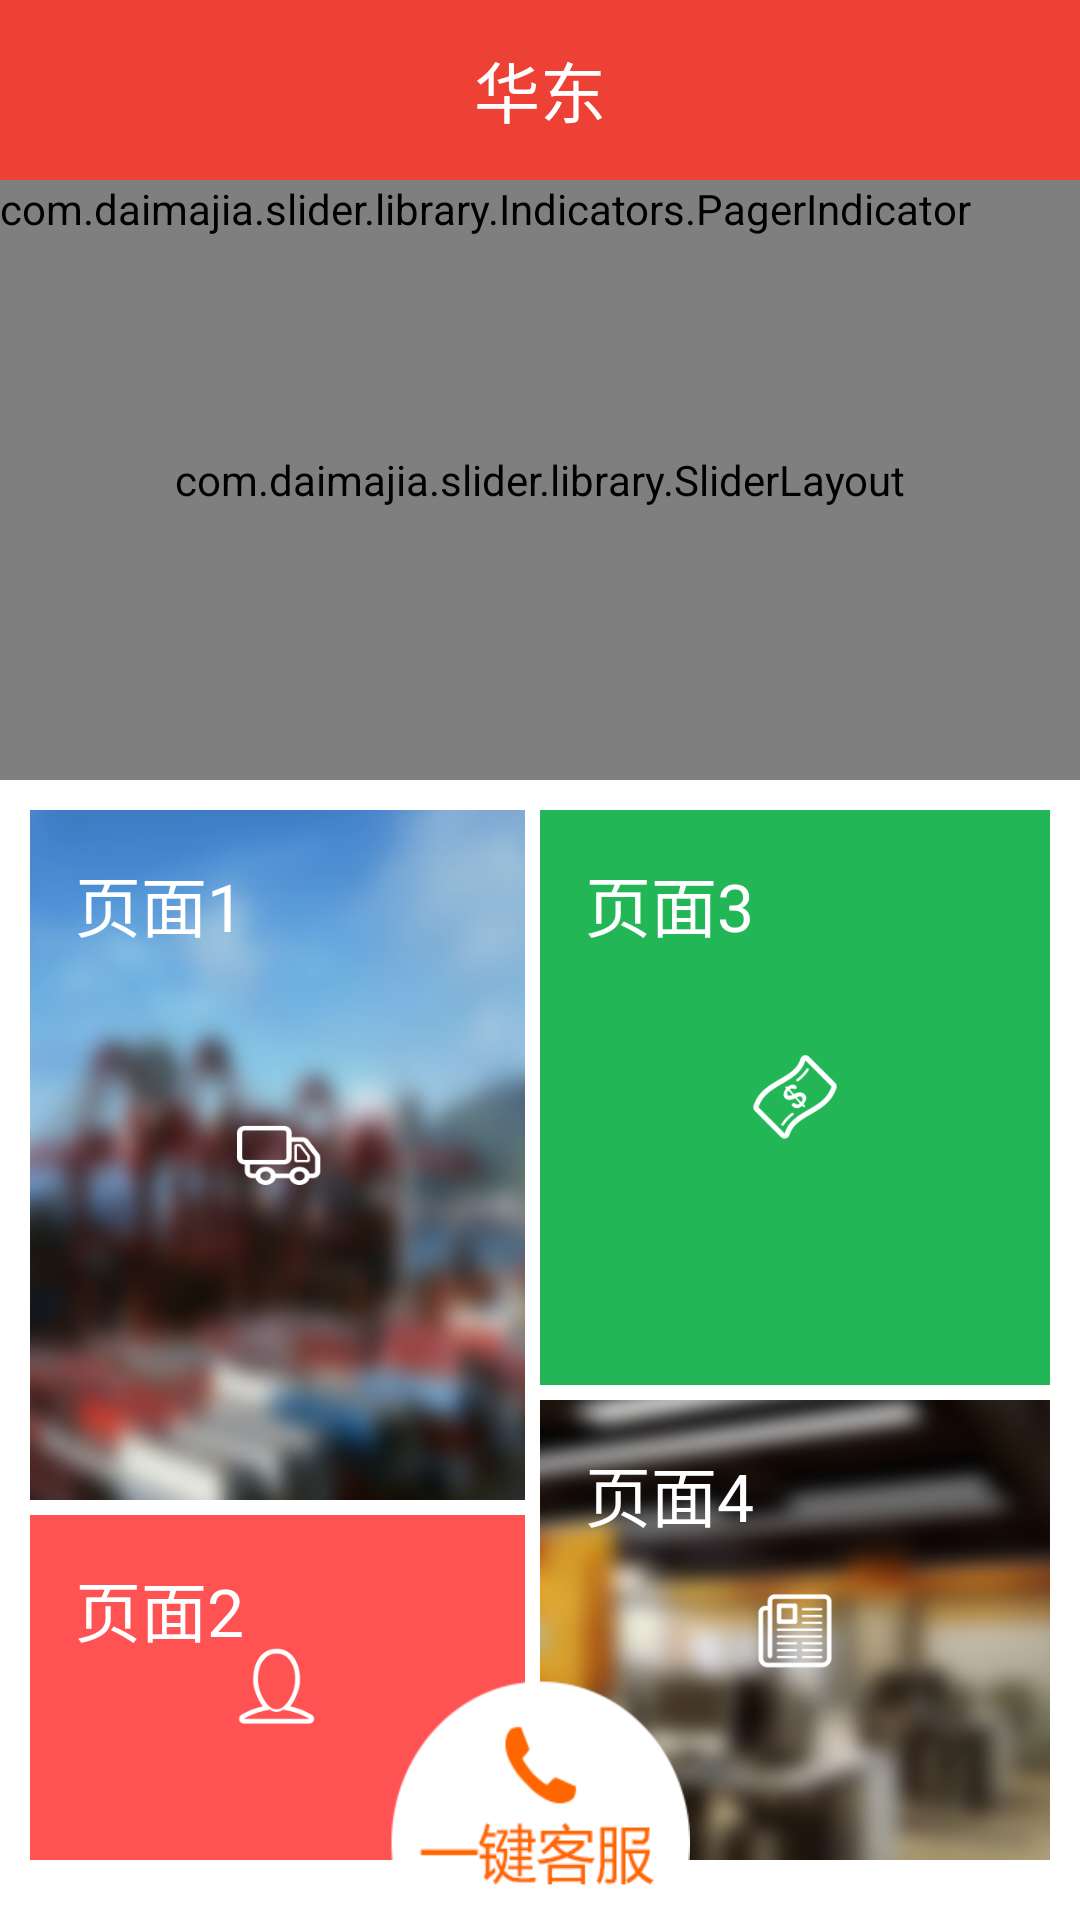

Where to tap for icons on this 1080w x 1920h app screen, as (x,y):
back car: (277,1155)
back me: (277,1686)
back money: (795,1097)
back order: (795,1630)
